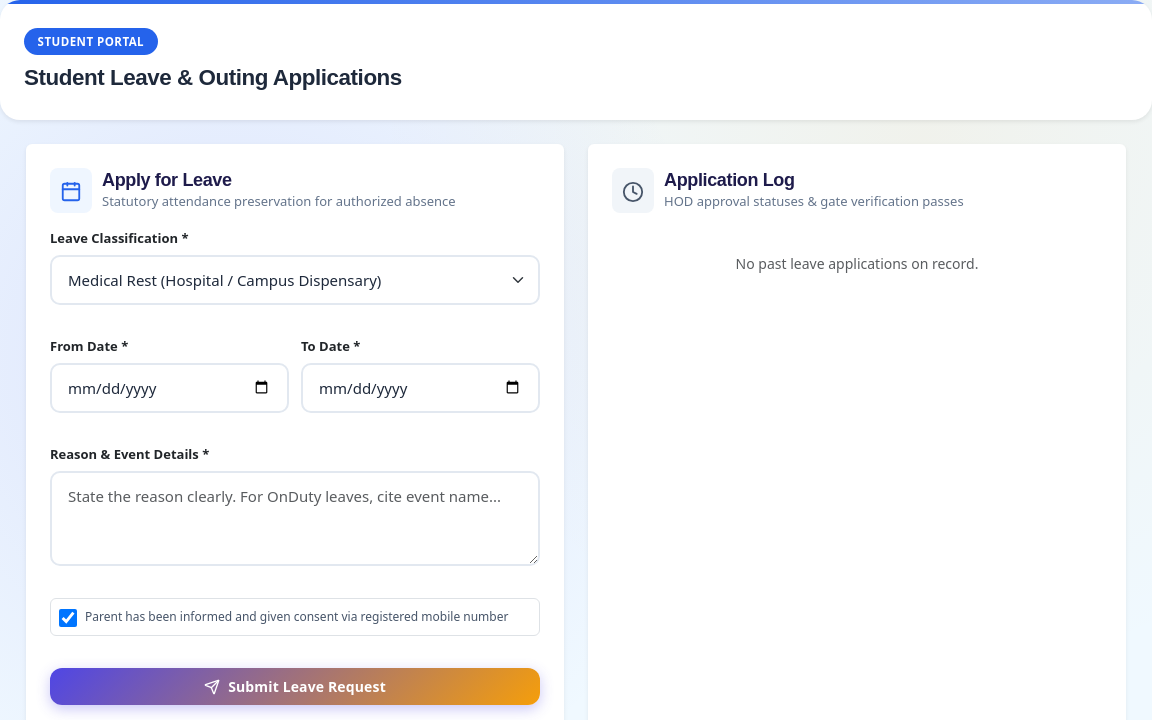
Test: LeaveApplicationPage Component Tests › displays error alert on submission failure
The width and height of the screenshot is (1152, 720).
Expected: the heading "Apply for Leave" is shown, x1=102 y1=170 x2=232 y2=190
Type "2026-12-05" into the date field labelled "From Date *".
click(170, 388); type("2026-12-05")  # box x1=50 y1=362 x2=289 y2=413
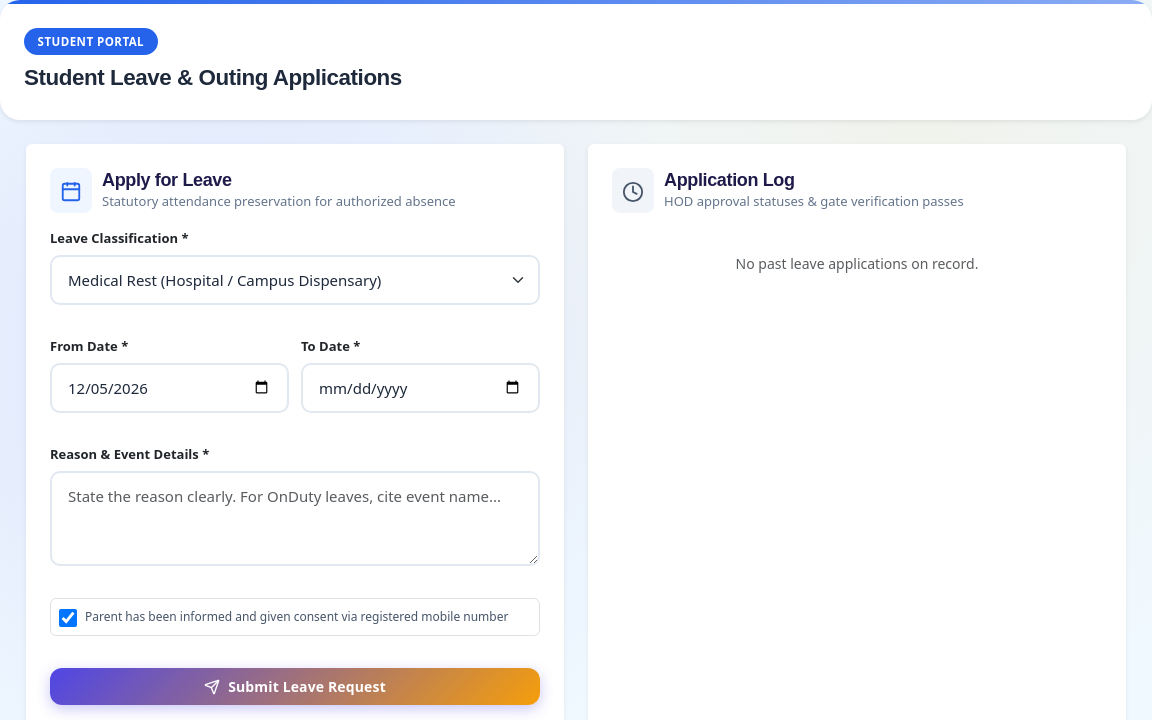
Type "2026-12-07" into the date field labelled "To Date *".
click(420, 388); type("2026-12-07")  # box x1=301 y1=362 x2=540 y2=413
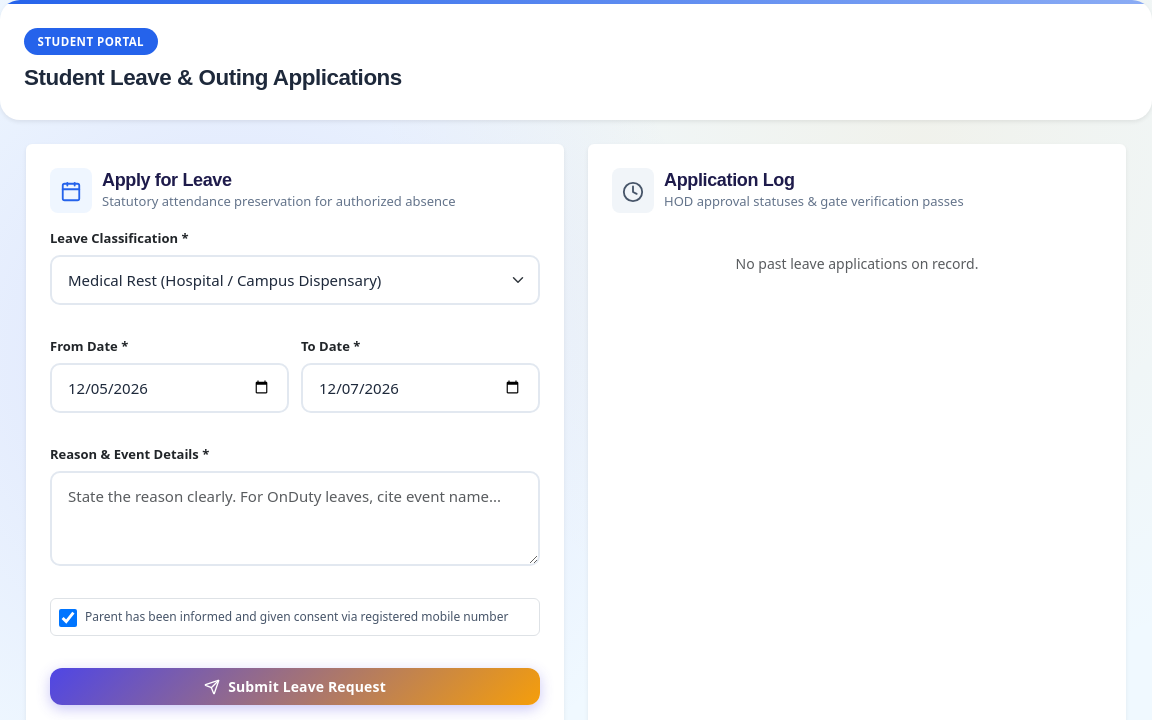
Replace the text in the text box labelled "Reason & Event Details *" with "Exam trip" at (295, 518), box x1=50 y1=470 x2=540 y2=566
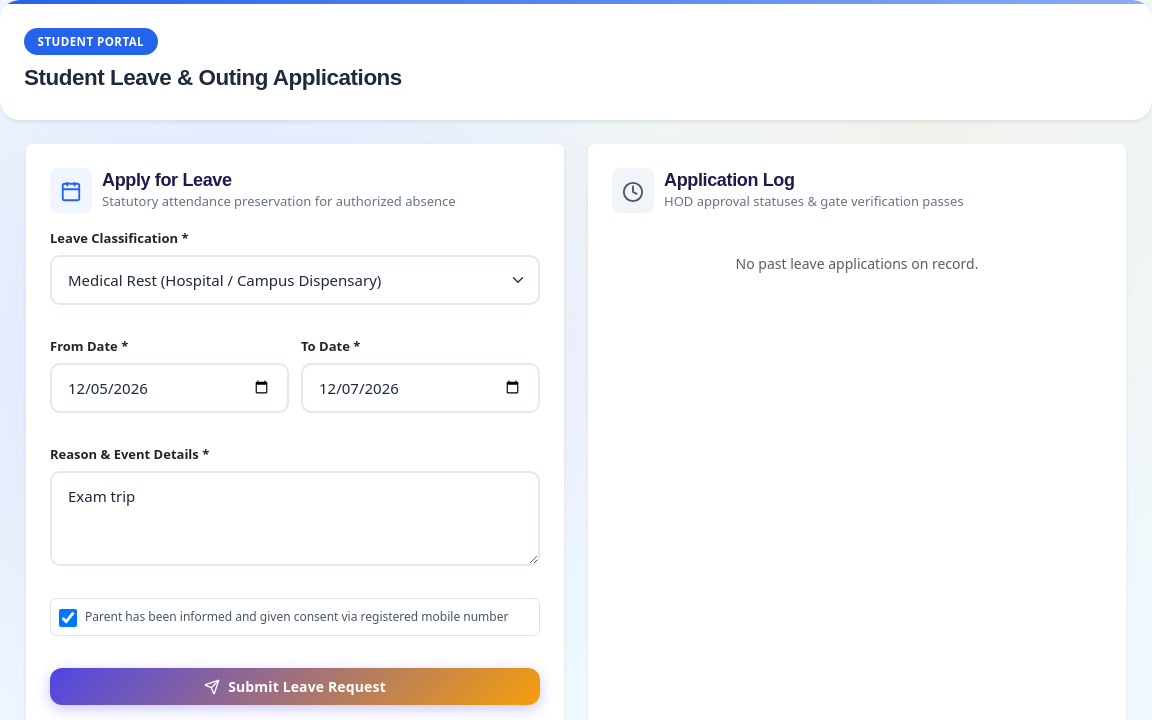
Submit the form named "Submit Leave Request", box x1=50 y1=229 x2=540 y2=705
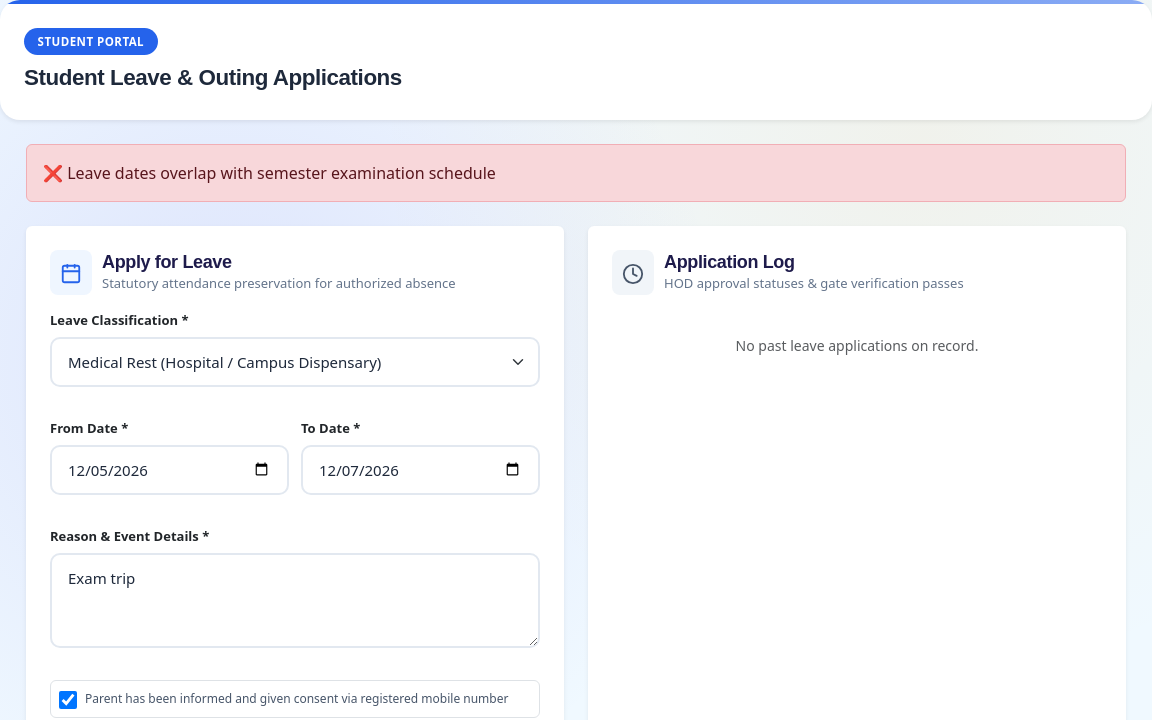
Now the text "❌ Leave dates overlap with semester examination schedule" is shown, box x1=26 y1=144 x2=1126 y2=202
